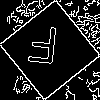F: (25, 25, 60, 74)
